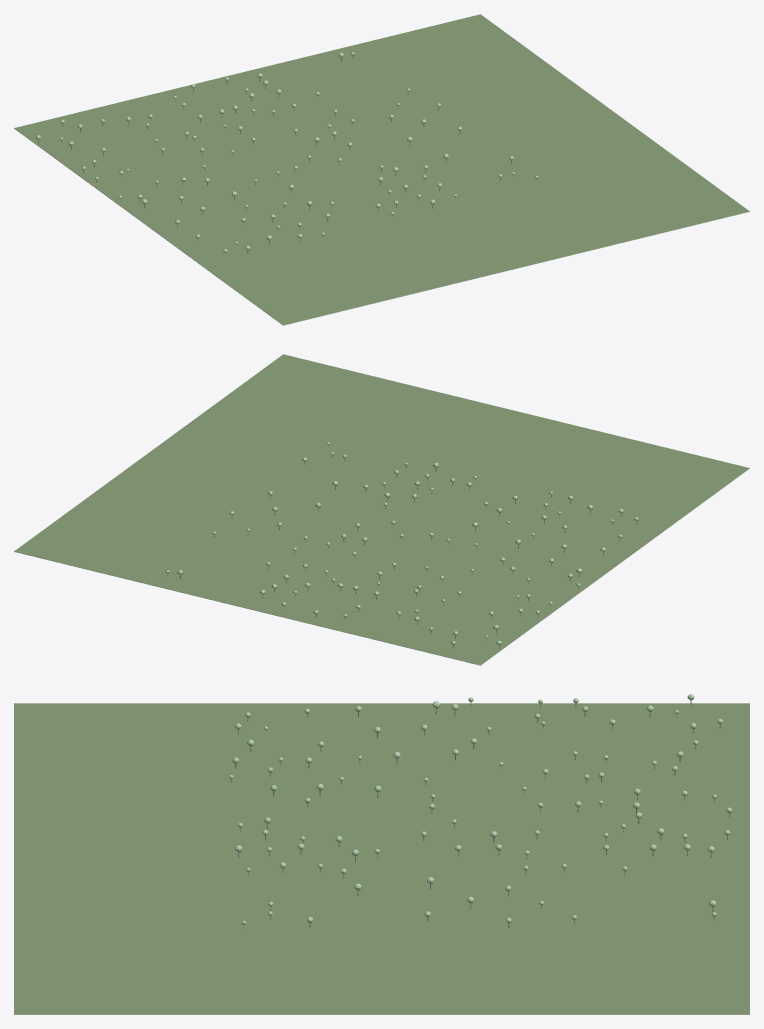
The model's file is chunk_7_7_high.glb.
The picture shows the model from 3 angles, top to bottom: view 1: azimuth 30°, elevation 25°; view 2: azimuth 150°, elevation 25°; view 3: azimuth 270°, elevation 25°; orthographic projection. The views are drawn at different scales.
Parts seen in each view (by area): view 1: city_forest_floor, city_foliage, city_grass, city_foliage_dark; view 2: city_forest_floor, city_foliage, city_grass, city_foliage_dark; view 3: city_forest_floor, city_foliage, city_foliage_dark, city_grass, city_bark.
Boxes of the visible parts, x1=… form: city_forest_floor: x1=14, y1=14, x2=749, y2=325; city_foliage: x1=36, y1=52, x2=538, y2=252; city_grass: x1=14, y1=128, x2=749, y2=325; city_foliage_dark: x1=36, y1=53, x2=538, y2=252; city_forest_floor: x1=14, y1=354, x2=749, y2=665; city_foliage: x1=166, y1=442, x2=637, y2=645; city_grass: x1=14, y1=468, x2=749, y2=665; city_foliage_dark: x1=165, y1=442, x2=638, y2=644; city_forest_floor: x1=14, y1=703, x2=749, y2=1014; city_foliage: x1=229, y1=694, x2=732, y2=924; city_foliage_dark: x1=230, y1=696, x2=731, y2=924; city_grass: x1=14, y1=1014, x2=749, y2=1014; city_bark: x1=231, y1=700, x2=729, y2=927.
Bounding box in the file's own units: 512 × 9.78 × 512.
